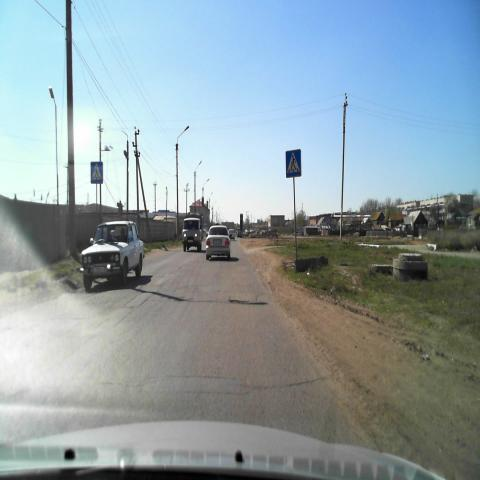5_19_1: (286, 150, 302, 176), (90, 162, 103, 183)
